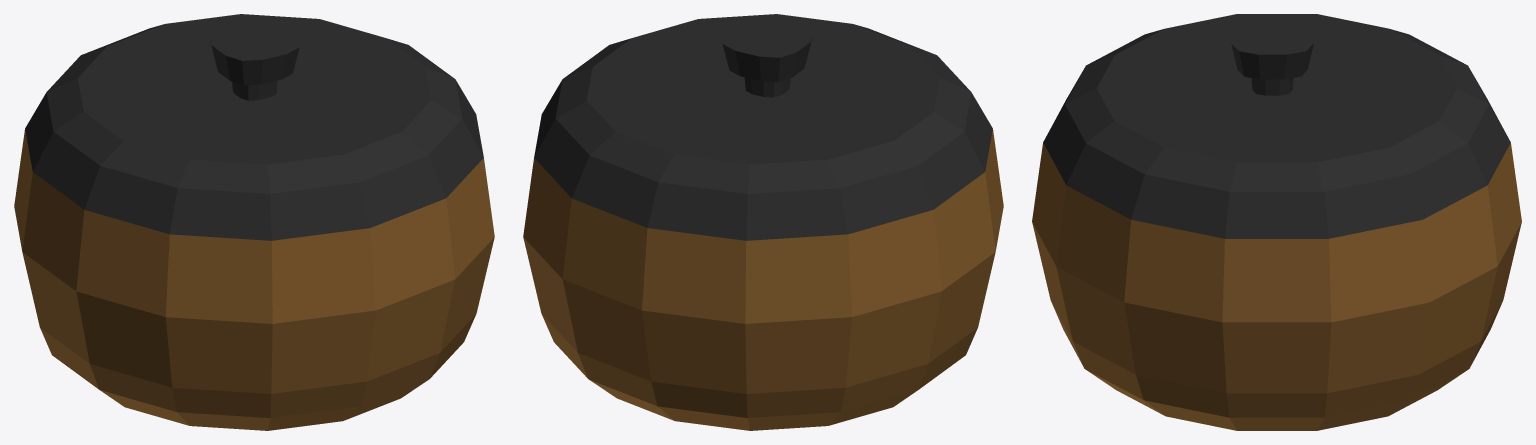
File: Pot_6.fbx
3 views of the same model, side by side, from view 1: azimuth 30°, elevation 25°; view 2: azimuth 150°, elevation 25°; view 3: azimuth 270°, elevation 25° (orthographic).
Visible parts, largest first — view 1: Pot_6; view 2: Pot_6; view 3: Pot_6.
Boxes of the visible parts, box(x1,y1,x2,y2) form: Pot_6: box(14, 14, 494, 430); Pot_6: box(523, 14, 1003, 430); Pot_6: box(1032, 14, 1521, 430).
Size of the model in its own units: 0.172 by 0.1314 by 0.1765.
